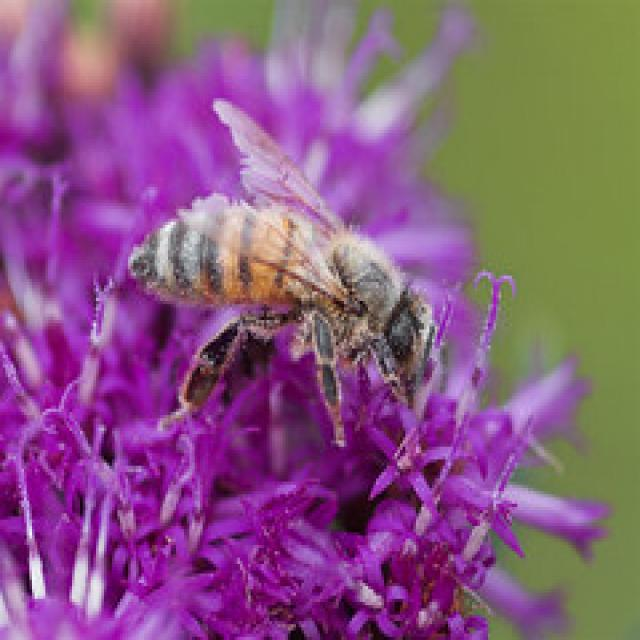Abeille: (116, 77, 512, 452)
